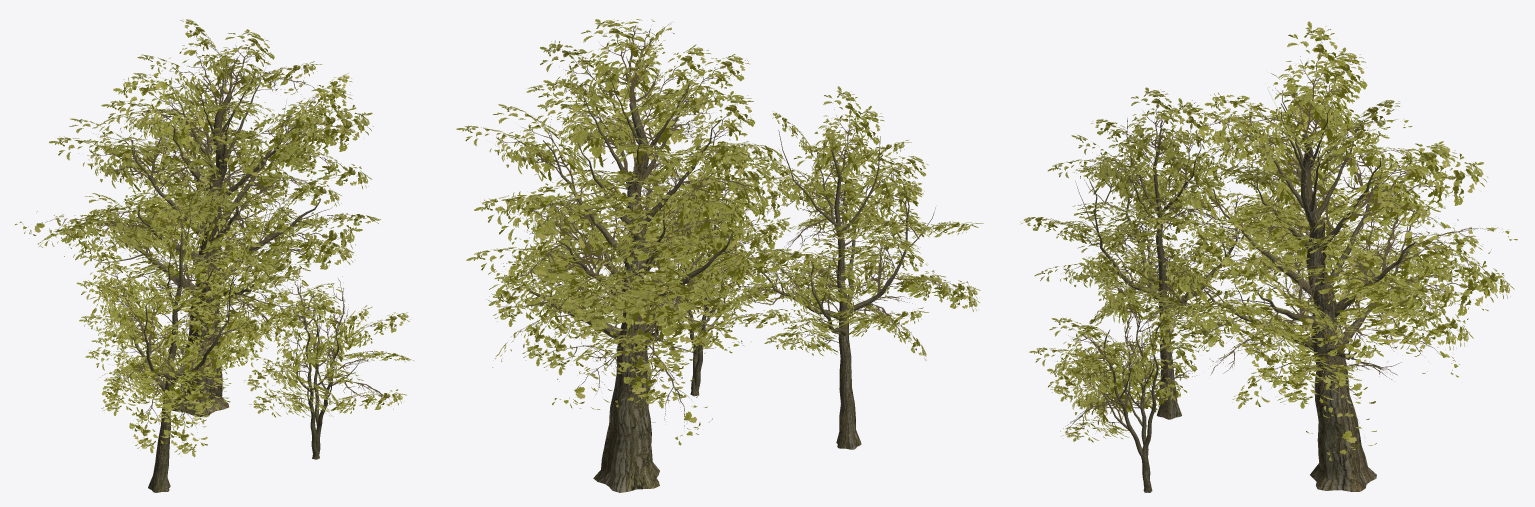
The model's file is oaks.glb.
The picture shows the model from 3 angles, left to right: view 1: azimuth 30°, elevation 25°; view 2: azimuth 150°, elevation 25°; view 3: azimuth 270°, elevation 25°; orthographic projection. The views are drawn at different scales.
Visible parts, largest first — view 1: leafplanes_2_196_0_leaf1_0, Treesmall_bark1_0; view 2: leafplanes_2_196_0_leaf1_0, Treesmall_bark1_0; view 3: leafplanes_2_196_0_leaf1_0, Treesmall_bark1_0.
Part boxes in pixels (x1,y1,x2,y2): leafplanes_2_196_0_leaf1_0: (15, 19, 414, 457); Treesmall_bark1_0: (80, 53, 374, 492); leafplanes_2_196_0_leaf1_0: (456, 19, 983, 445); Treesmall_bark1_0: (486, 56, 935, 492); leafplanes_2_196_0_leaf1_0: (1020, 21, 1517, 460); Treesmall_bark1_0: (1075, 87, 1436, 492).
Size of the model in its own units: 1.97 by 2.04 by 2.08.
2 materials, 2 textured.
